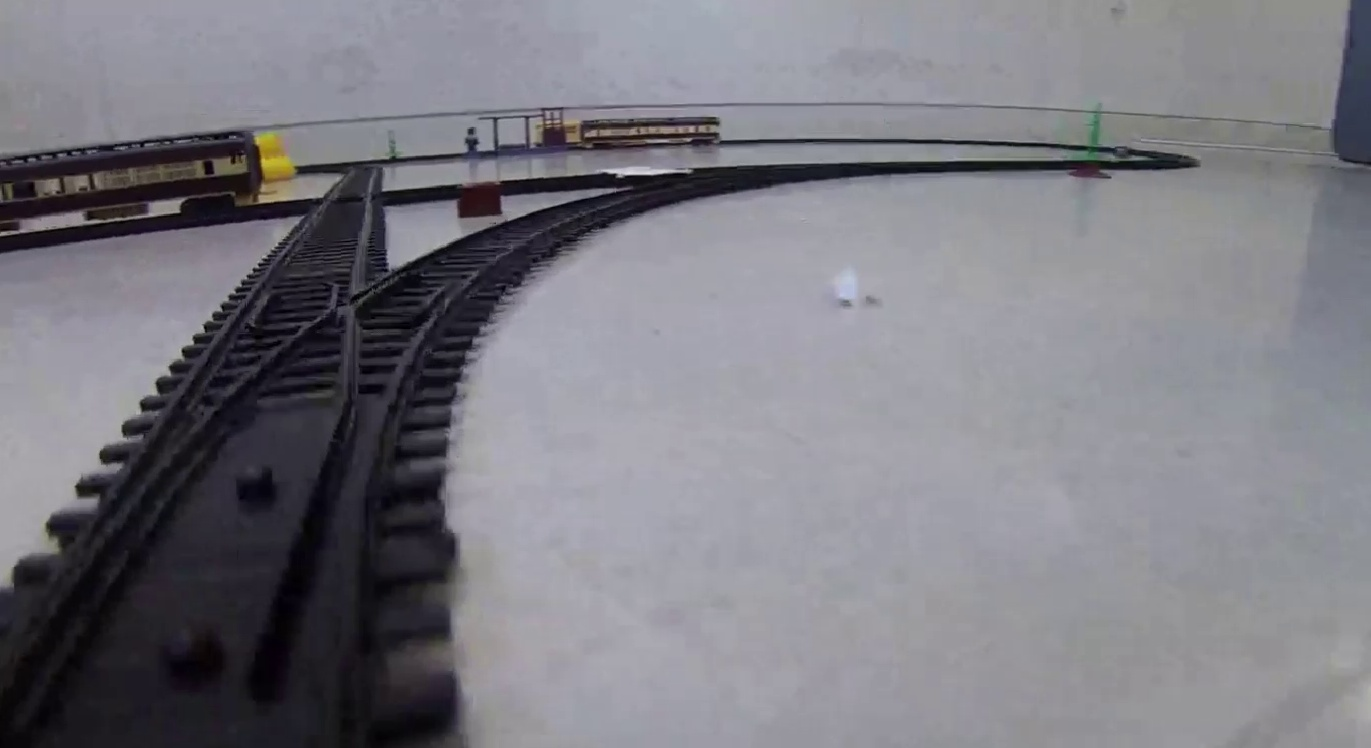box: (459, 183, 502, 213)
tree: (1073, 103, 1115, 177)
